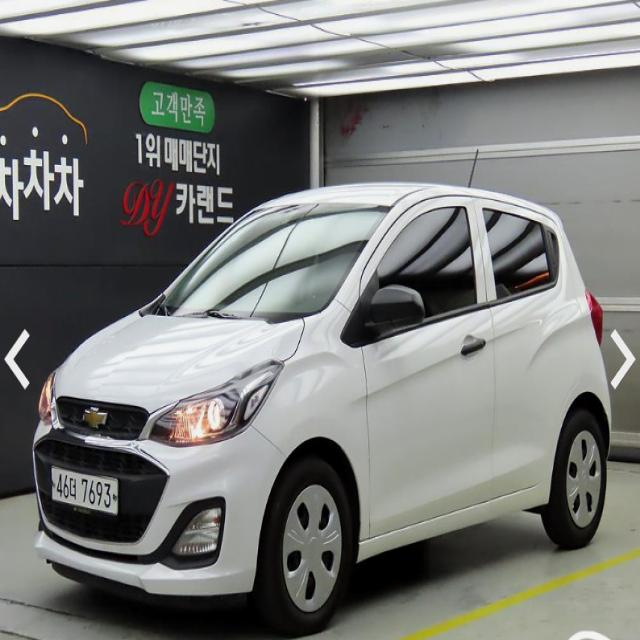car: (32, 176, 617, 638)
illegal_plate: (53, 465, 121, 523)
